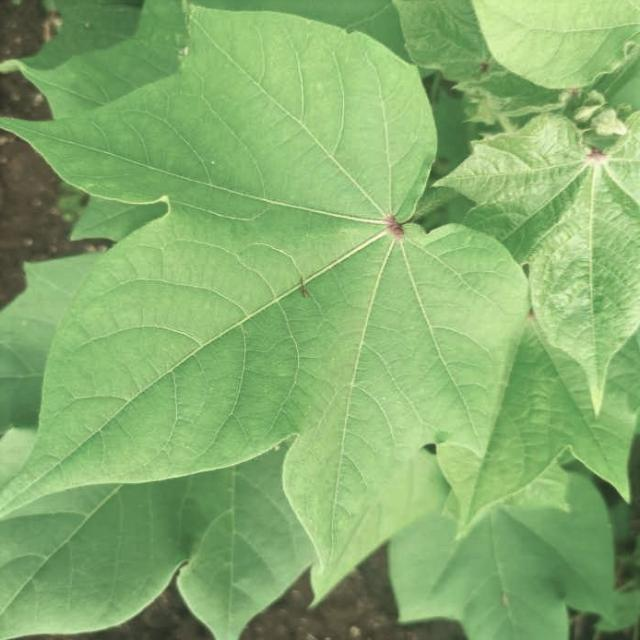Healthy Leaf: (108, 94, 632, 640)
